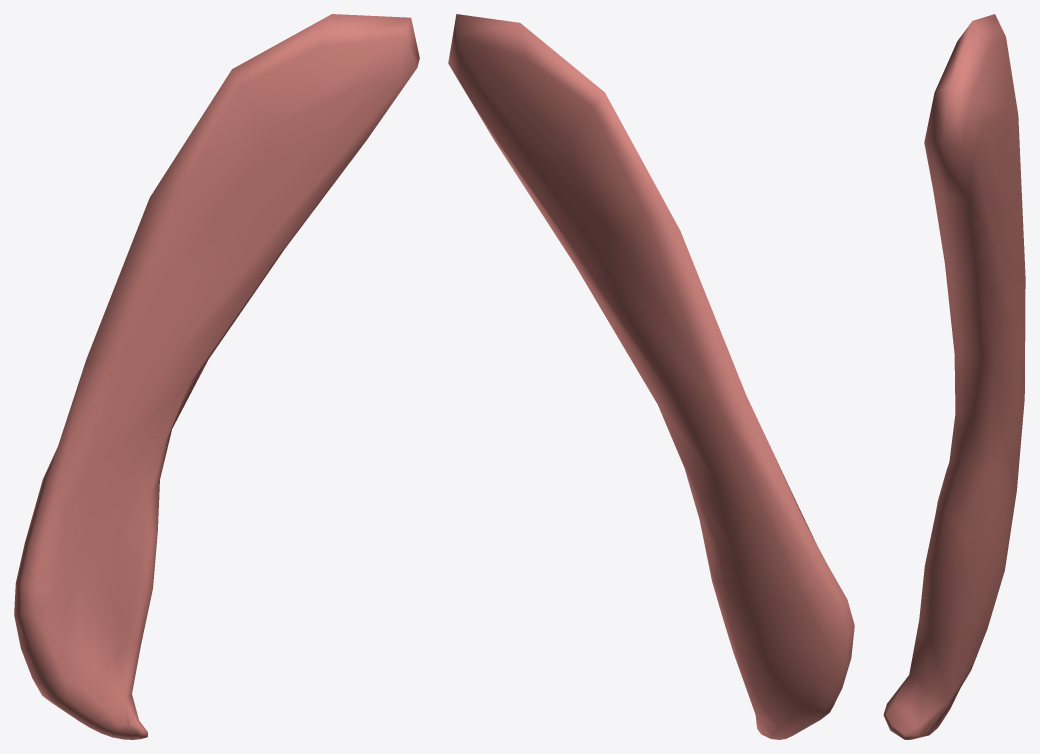
The picture shows the model from 3 angles, left to right: view 1: azimuth 30°, elevation 25°; view 2: azimuth 150°, elevation 25°; view 3: azimuth 270°, elevation 25°; orthographic projection. The views are drawn at different scales.
Parts seen in each view (by area): view 1: ZA_1d57bbccba592bf9; view 2: ZA_1d57bbccba592bf9; view 3: ZA_1d57bbccba592bf9.
Boxes of the visible parts, x1=… form: ZA_1d57bbccba592bf9: x1=14, y1=14, x2=419, y2=739; ZA_1d57bbccba592bf9: x1=448, y1=14, x2=854, y2=739; ZA_1d57bbccba592bf9: x1=883, y1=14, x2=1025, y2=739.
Bounding box in the file's own units: 0.00539 × 0.00854 × 0.00128.
